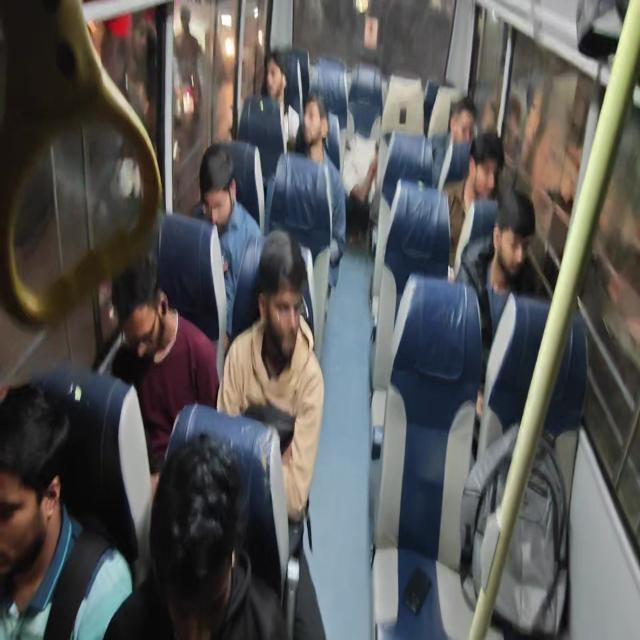person: (138, 406, 239, 636), (1, 371, 69, 569), (101, 233, 170, 367), (257, 224, 311, 365), (488, 177, 536, 295), (194, 137, 242, 234), (471, 115, 507, 193), (443, 91, 482, 146), (300, 80, 326, 160), (263, 40, 288, 117)
